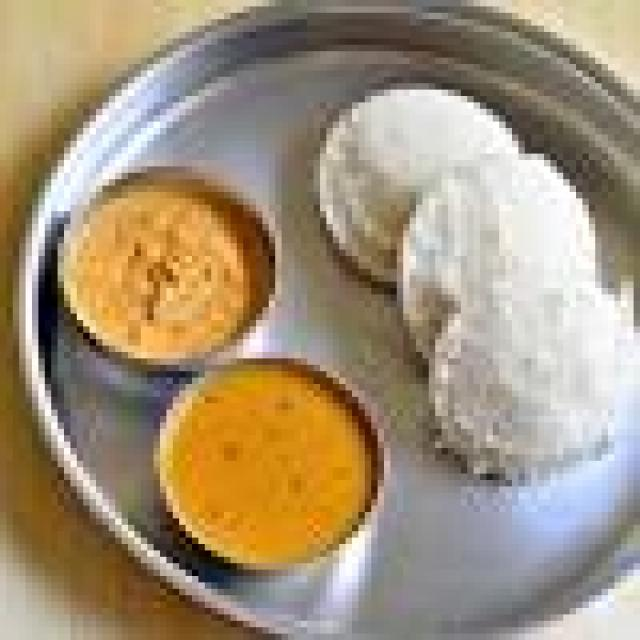Wet Waste: (390, 134, 596, 378), (307, 64, 512, 288), (429, 268, 627, 474)
